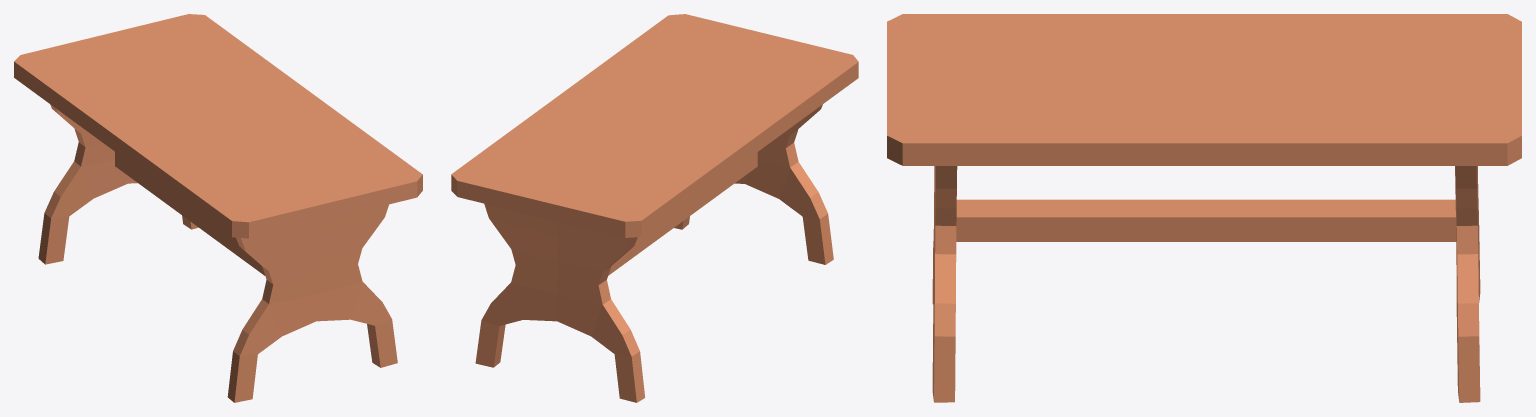
Rendered from SM_Furniture_Table_02.fbx.
3 renders of one model, left to right at view 1: azimuth 30°, elevation 25°; view 2: azimuth 150°, elevation 25°; view 3: azimuth 270°, elevation 25°, orthographic. The views are drawn at different scales.
Visible parts, largest first — view 1: Table_02; view 2: Table_02; view 3: Table_02.
Part boxes in pixels (<box>): Table_02: <box>14,14,422,402</box>; Table_02: <box>451,14,858,402</box>; Table_02: <box>887,14,1521,402</box>.
Bounding box in the file's own units: 96.77 × 93.97 × 201.
